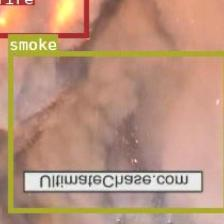fire: (0, 0, 88, 36)
smoke: (7, 49, 224, 211)
